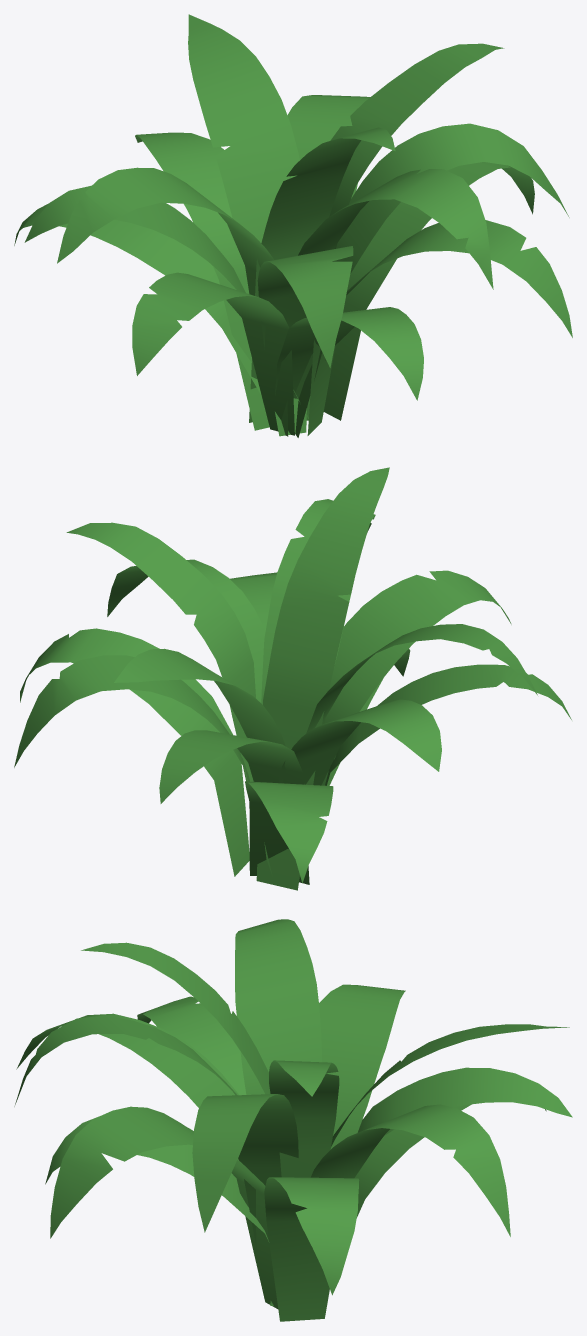
The model's file is plant_dracaena_A_dense.fbx.
The picture shows the model from 3 angles, top to bottom: view 1: azimuth 30°, elevation 25°; view 2: azimuth 150°, elevation 25°; view 3: azimuth 270°, elevation 25°; orthographic projection. The views are drawn at different scales.
Visible parts, largest first — view 1: plant_dracaena_A_dense_A_leaf_E, plant_dracaena_A_dense_A_leaf_K, plant_dracaena_A_dense_A_leaf_I, plant_dracaena_A_dense_A_leaf_N, plant_dracaena_A_dense_A_leaf_C, plant_dracaena_A_dense_A_leaf_A, plant_dracaena_A_dense_A_leaf_G, plant_dracaena_A_dense_A_leaf_H, plant_dracaena_A_dense_A_leaf_L, plant_dracaena_A_dense_A_leaf_B, plant_dracaena_A_dense_A_leaf_J, plant_dracaena_A_dense_A_leaf_O (+3 smaller); view 2: plant_dracaena_A_dense_A_leaf_A, plant_dracaena_A_dense_A_leaf_H, plant_dracaena_A_dense_A_leaf_B, plant_dracaena_A_dense_A_leaf_L, plant_dracaena_A_dense_A_leaf_M, plant_dracaena_A_dense_A_leaf_F, plant_dracaena_A_dense_A_leaf_D, plant_dracaena_A_dense_A_leaf_N, plant_dracaena_A_dense_A_leaf_E, plant_dracaena_A_dense_A_leaf_K, plant_dracaena_A_dense_A_leaf_I, plant_dracaena_A_dense_A_leaf_C (+2 smaller); view 3: plant_dracaena_A_dense_A_leaf_L, plant_dracaena_A_dense_A_leaf_C, plant_dracaena_A_dense_A_leaf_J, plant_dracaena_A_dense_A_leaf_I, plant_dracaena_A_dense_A_leaf_F, plant_dracaena_A_dense_A_leaf_D, plant_dracaena_A_dense_A_leaf_N, plant_dracaena_A_dense_A_leaf_B, plant_dracaena_A_dense_A_leaf_K, plant_dracaena_A_dense_A_leaf_A, plant_dracaena_A_dense_A_leaf_H, plant_dracaena_A_dense_A_leaf_G (+3 smaller).
Boxes of the visible parts, <box> form: plant_dracaena_A_dense_A_leaf_E: <box>188,14,306,436</box>; plant_dracaena_A_dense_A_leaf_K: <box>132,272,294,435</box>; plant_dracaena_A_dense_A_leaf_I: <box>295,123,569,437</box>; plant_dracaena_A_dense_A_leaf_N: <box>135,132,269,430</box>; plant_dracaena_A_dense_A_leaf_C: <box>57,167,288,436</box>; plant_dracaena_A_dense_A_leaf_A: <box>249,127,395,422</box>; plant_dracaena_A_dense_A_leaf_G: <box>298,169,493,289</box>; plant_dracaena_A_dense_A_leaf_H: <box>257,246,353,407</box>; plant_dracaena_A_dense_A_leaf_L: <box>323,162,534,420</box>; plant_dracaena_A_dense_A_leaf_B: <box>329,43,504,248</box>; plant_dracaena_A_dense_A_leaf_J: <box>307,220,572,435</box>; plant_dracaena_A_dense_A_leaf_O: <box>275,307,423,400</box>; plant_dracaena_A_dense_A_leaf_A: <box>256,467,389,890</box>; plant_dracaena_A_dense_A_leaf_H: <box>321,570,511,785</box>; plant_dracaena_A_dense_A_leaf_B: <box>66,522,255,781</box>; plant_dracaena_A_dense_A_leaf_L: <box>20,628,249,876</box>; plant_dracaena_A_dense_A_leaf_M: <box>245,781,333,883</box>; plant_dracaena_A_dense_A_leaf_F: <box>278,699,441,785</box>; plant_dracaena_A_dense_A_leaf_D: <box>14,655,271,873</box>; plant_dracaena_A_dense_A_leaf_N: <box>159,730,309,884</box>; plant_dracaena_A_dense_A_leaf_E: <box>114,648,285,746</box>; plant_dracaena_A_dense_A_leaf_K: <box>325,664,571,785</box>; plant_dracaena_A_dense_A_leaf_I: <box>107,559,265,702</box>; plant_dracaena_A_dense_A_leaf_C: <box>304,624,537,784</box>; plant_dracaena_A_dense_A_leaf_L: <box>264,1177,359,1321</box>; plant_dracaena_A_dense_A_leaf_C: <box>235,919,321,1094</box>; plant_dracaena_A_dense_A_leaf_J: <box>50,1106,278,1308</box>; plant_dracaena_A_dense_A_leaf_I: <box>192,1094,298,1246</box>; plant_dracaena_A_dense_A_leaf_F: <box>270,984,405,1306</box>; plant_dracaena_A_dense_A_leaf_D: <box>310,1104,510,1236</box>; plant_dracaena_A_dense_A_leaf_N: <box>357,1067,572,1135</box>; plant_dracaena_A_dense_A_leaf_B: <box>269,1060,339,1177</box>; plant_dracaena_A_dense_A_leaf_K: <box>137,996,246,1095</box>; plant_dracaena_A_dense_A_leaf_A: <box>81,942,270,1094</box>; plant_dracaena_A_dense_A_leaf_H: <box>16,1013,238,1160</box>; plant_dracaena_A_dense_A_leaf_G: <box>14,1015,237,1106</box>.
Size of the model in its own units: 110 by 73.01 by 105.
